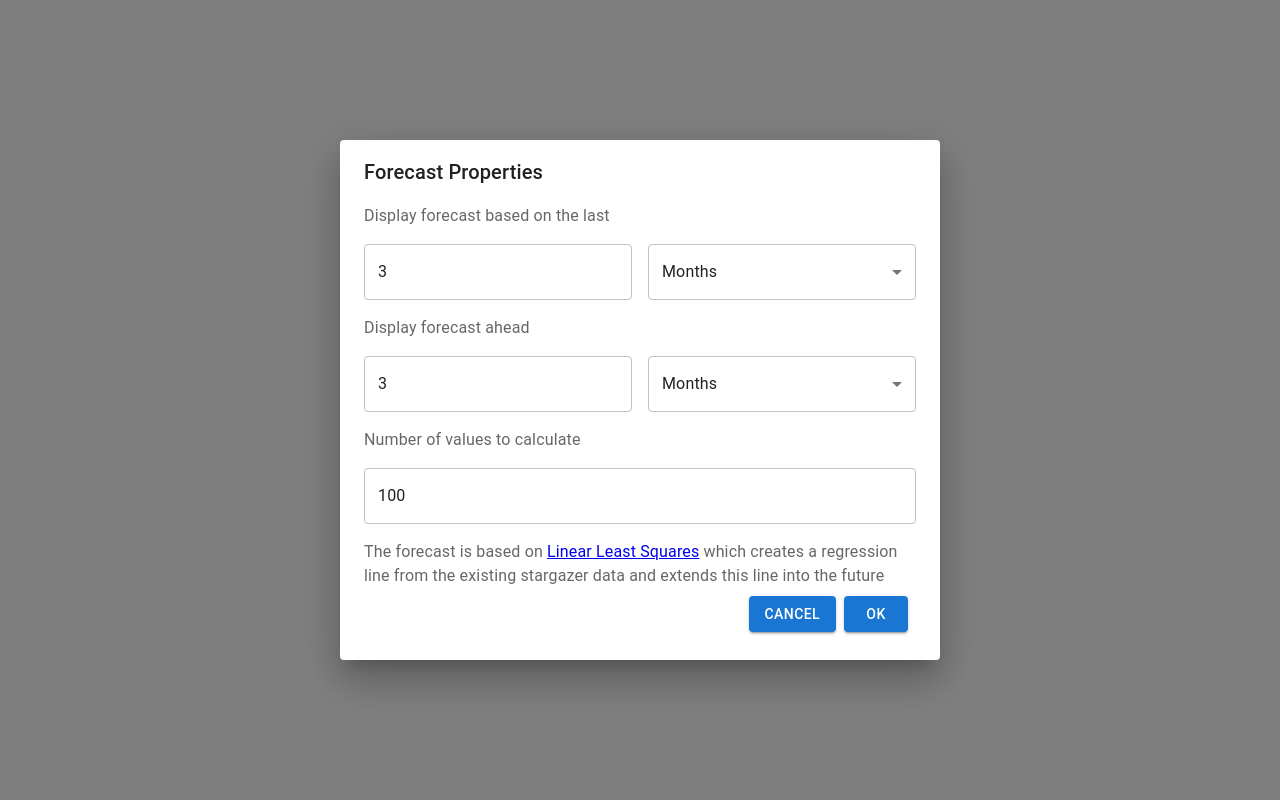
Test: ForecastForm › checks forward count text box validations
Replace the text in the number field with test id "forwardCount" with "0" at (498,384), box [364,356,632,412]
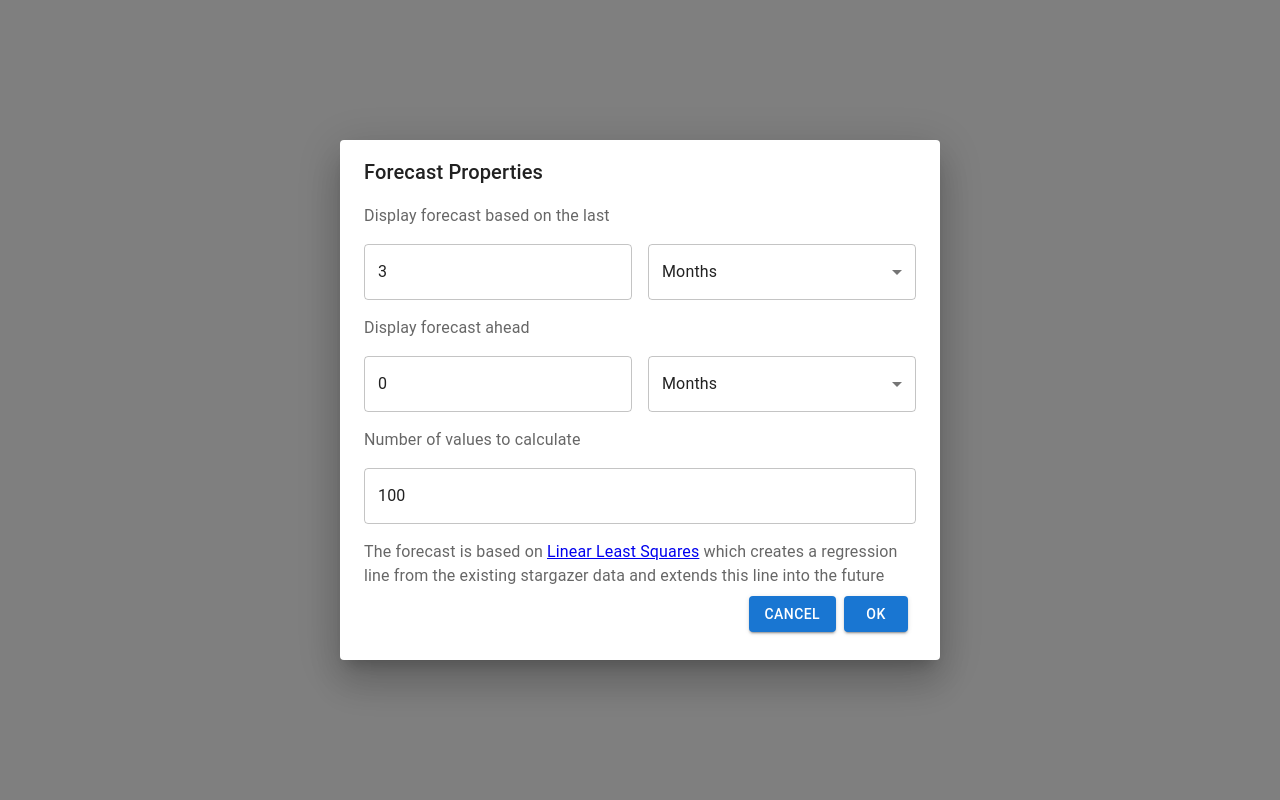
Click the button "Ok" at (876,614), box [844,596,908,632]
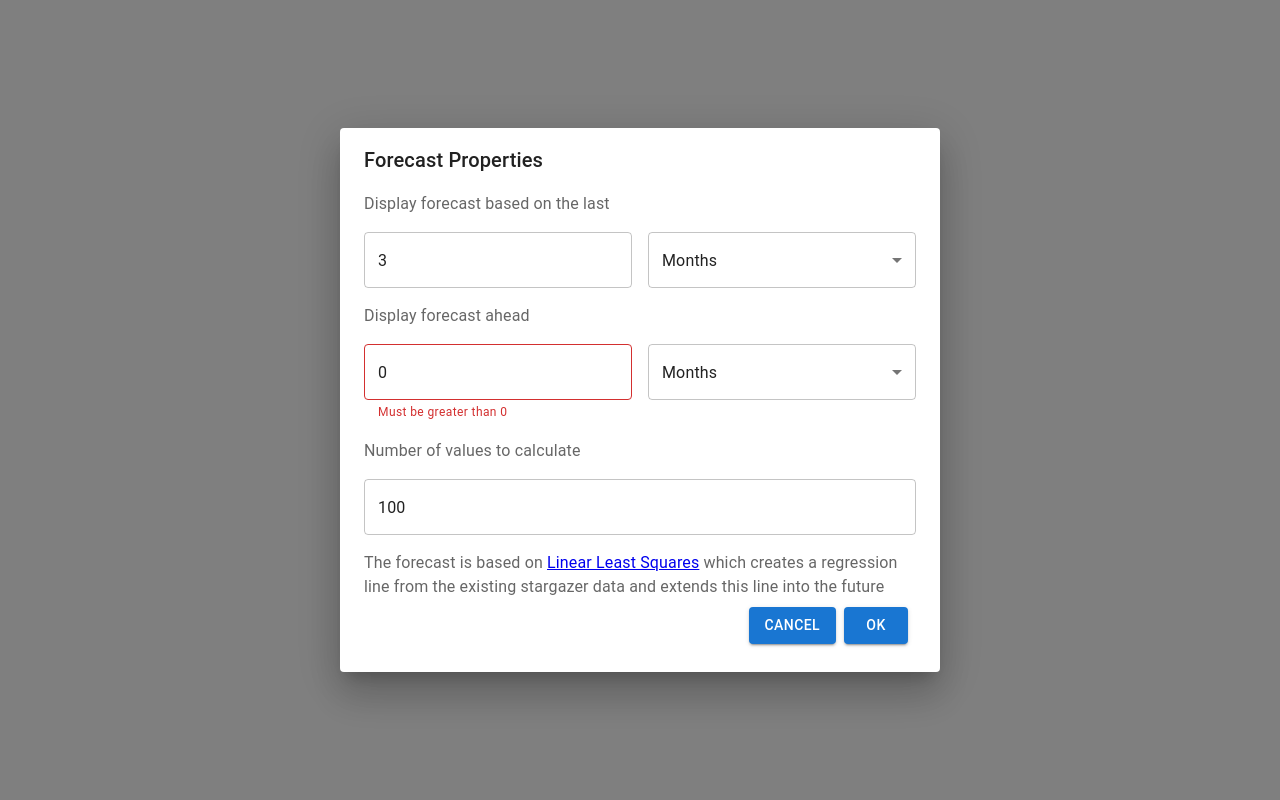
Now the text "Must be greater than 0" is shown, box [378,405,507,419]
Replace the text in the number field with test id "forwardCount" with "101" at (498,372), box [364,344,632,400]
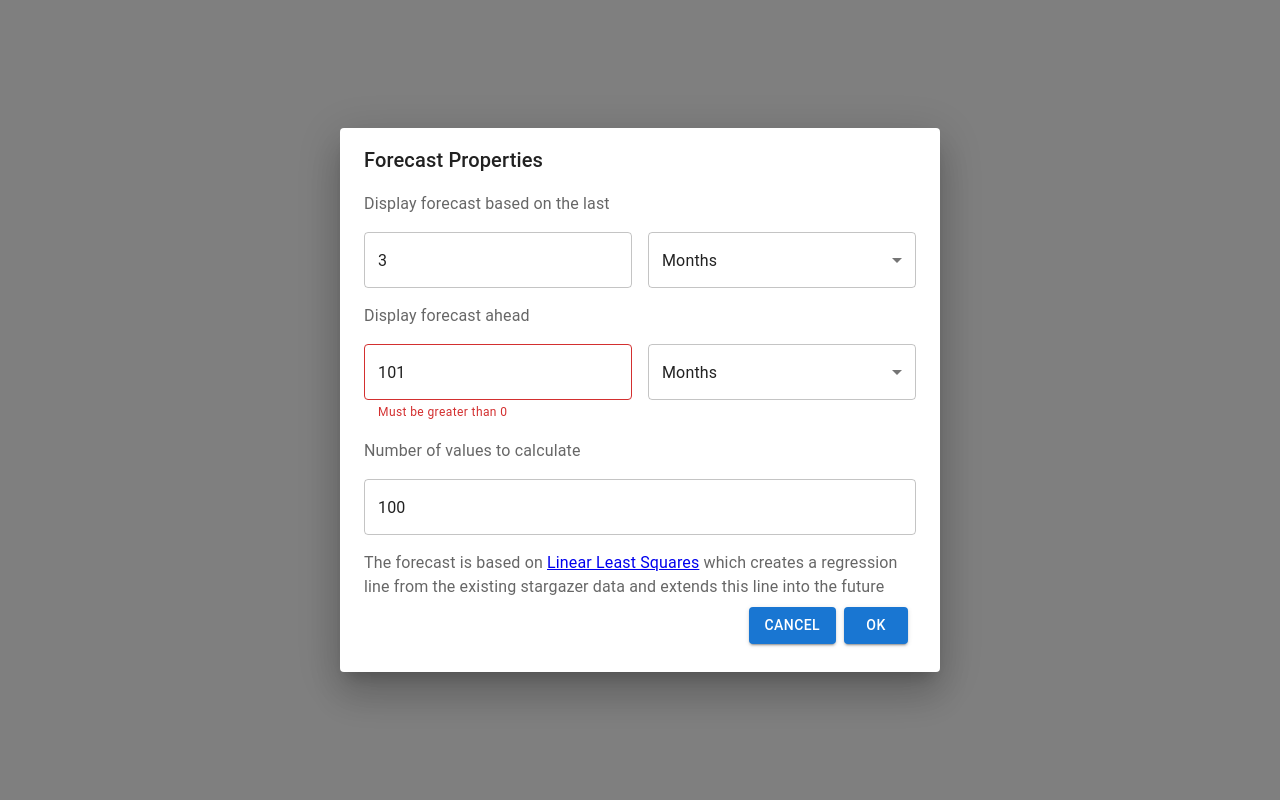
Click the button "Ok" at (876,625), box [844,607,908,644]
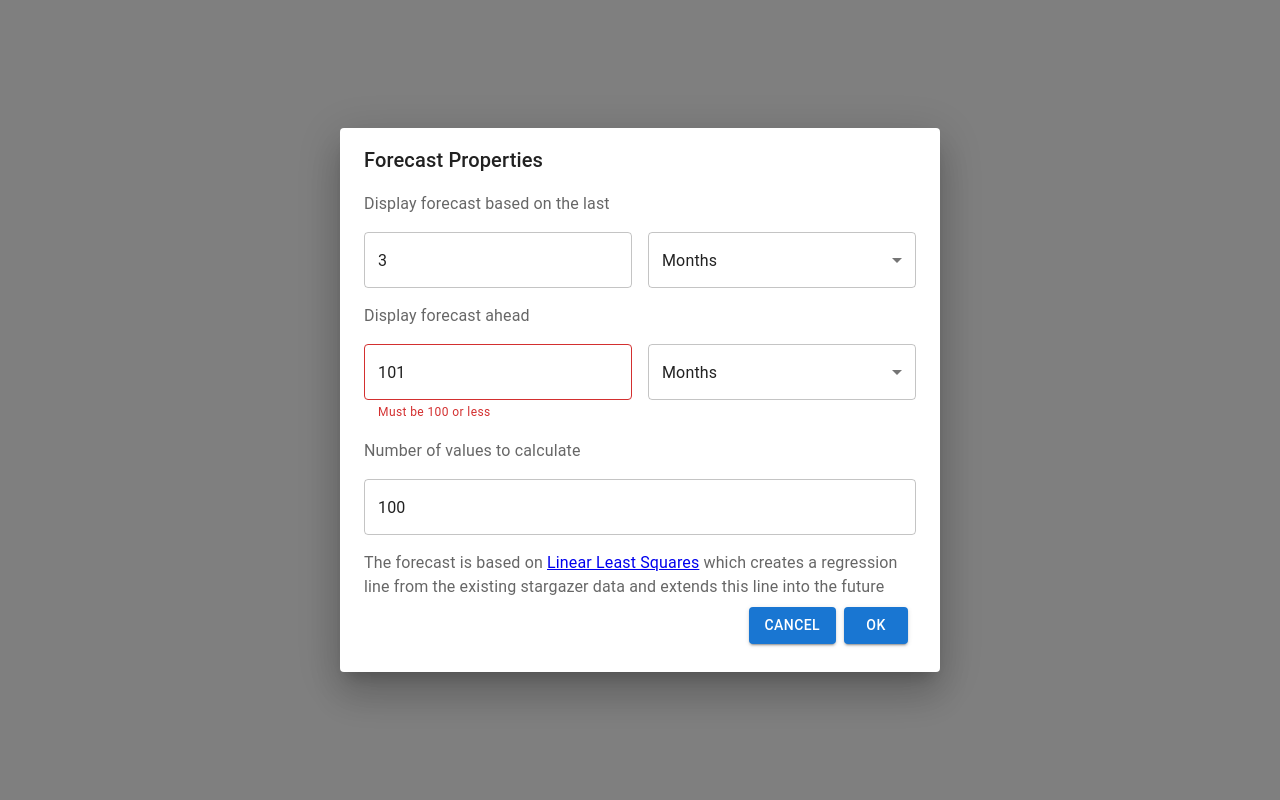
Now the text "Must be 100 or less" is shown, box [378,405,491,419]
Clear the number field with test id "forwardCount" at (498,372), box [364,344,632,400]
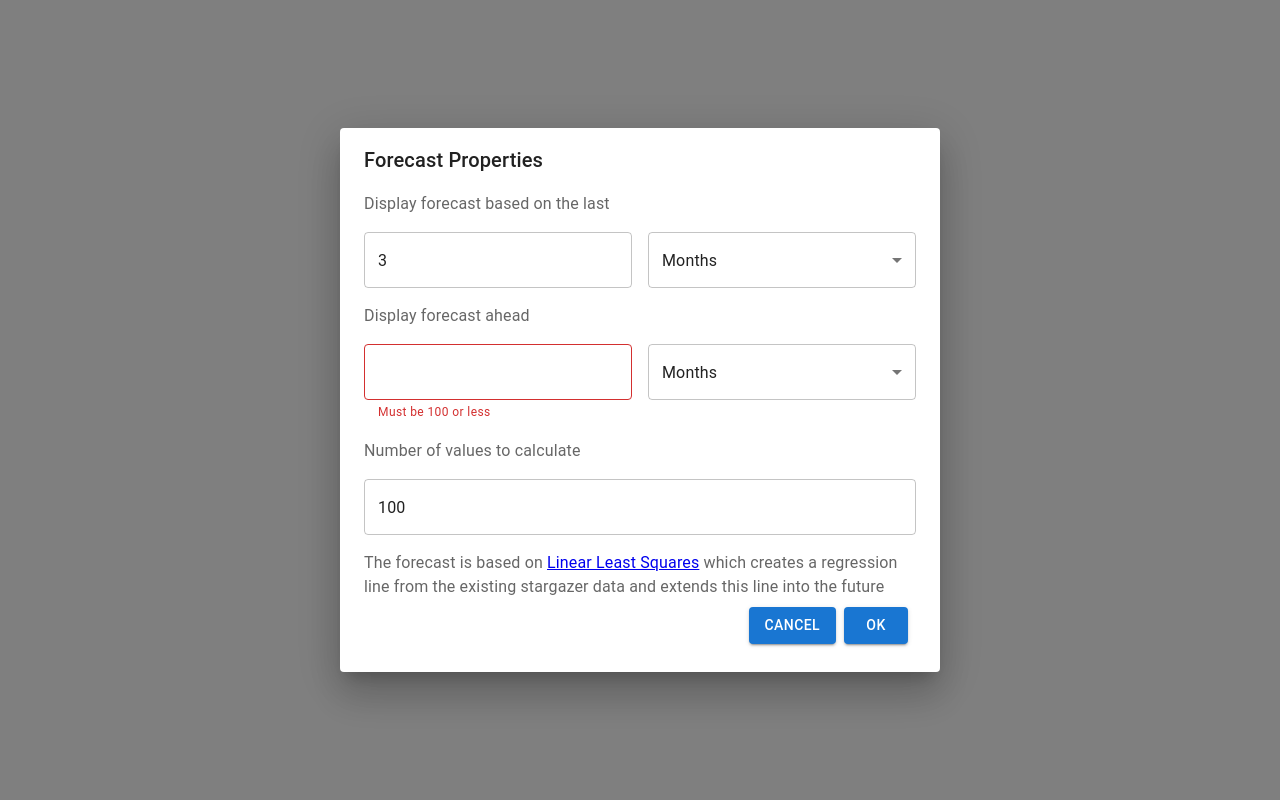
Click the button "Ok" at (876,625), box [844,607,908,644]
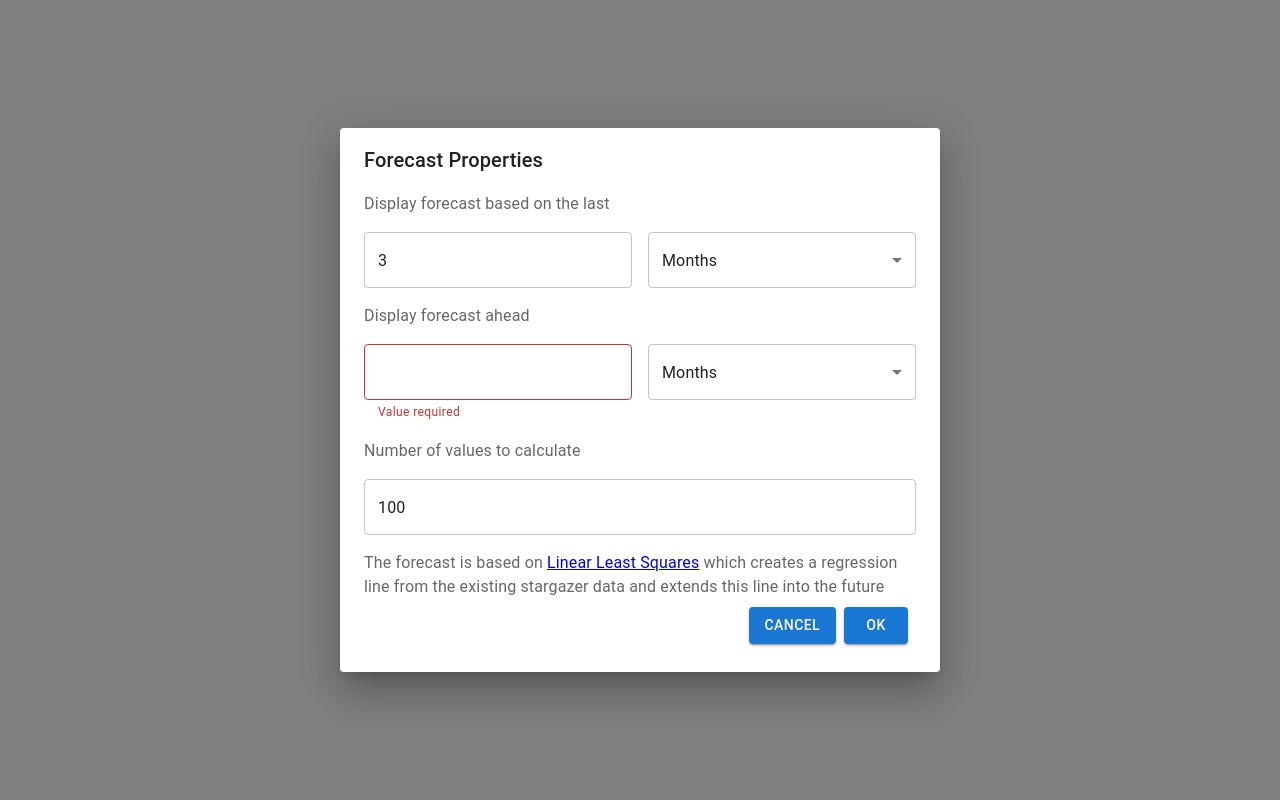
Now the text "Value required" is shown, box [378,405,460,419]
